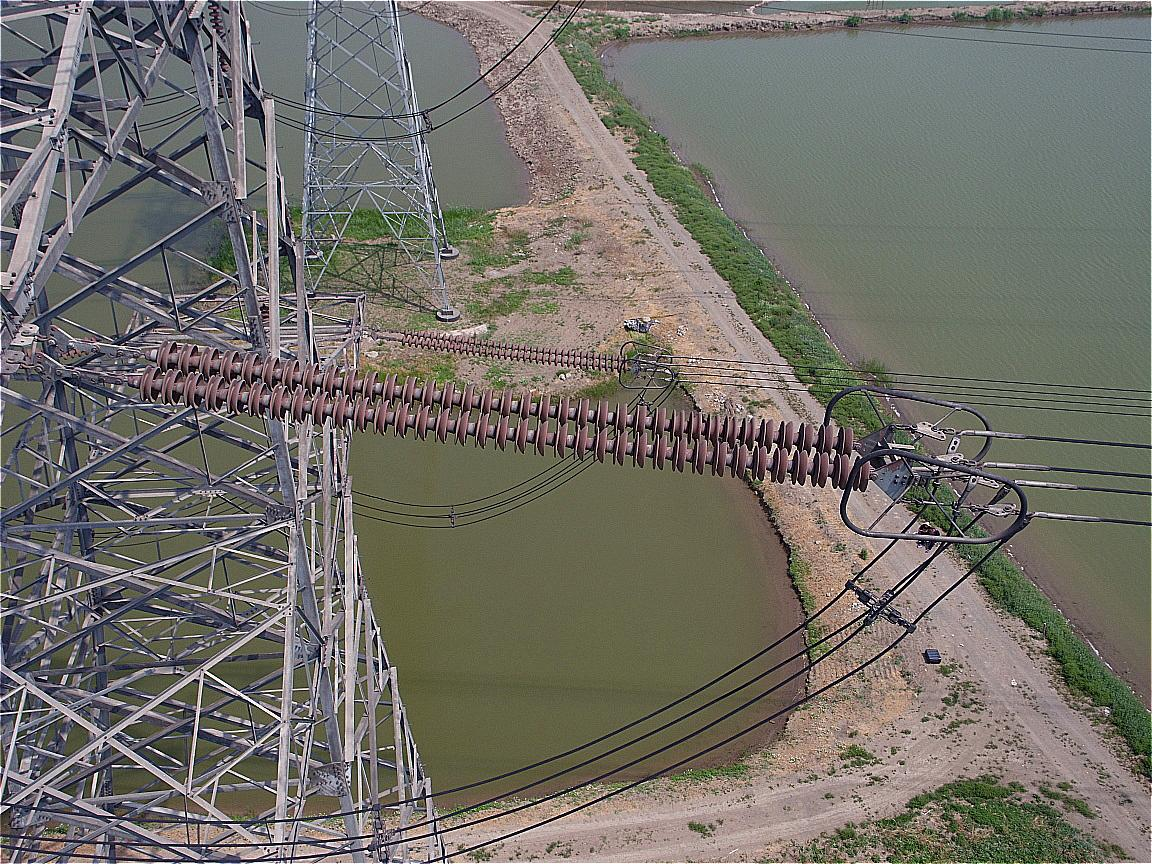insultor1: (401, 328, 630, 373)
insultor2: (138, 340, 875, 493)
